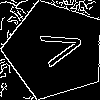V: (30, 25, 86, 71)
